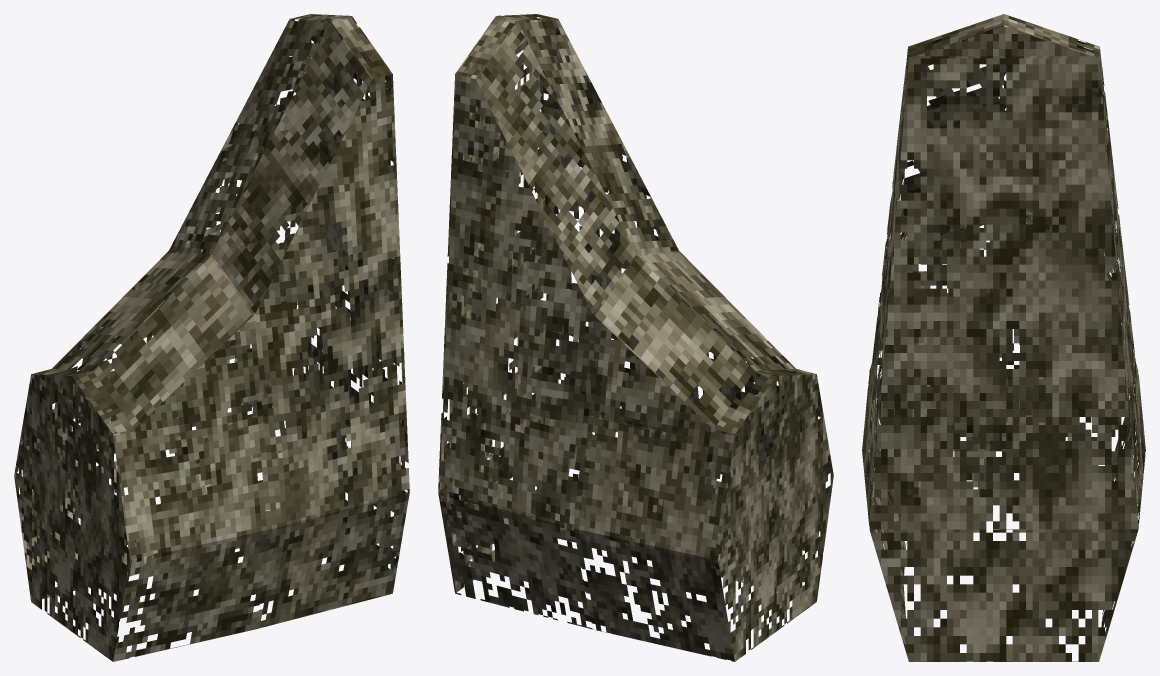
The model's file is bush_connector_ornamental_half_dead.glb.
The picture shows the model from 3 angles, left to right: view 1: azimuth 30°, elevation 25°; view 2: azimuth 150°, elevation 25°; view 3: azimuth 270°, elevation 25°; orthographic projection. The views are drawn at different scales.
Parts seen in each view (by area): view 1: bush_connector_ornamental_half_dead; view 2: bush_connector_ornamental_half_dead; view 3: bush_connector_ornamental_half_dead.
Boxes of the visible parts, x1,y1,x2,y2 form: bush_connector_ornamental_half_dead: (14, 14, 409, 661); bush_connector_ornamental_half_dead: (438, 14, 833, 661); bush_connector_ornamental_half_dead: (862, 14, 1145, 661).
Size of the model in its own units: 1 by 1.88 by 0.7592.
Materials: 1 (1 with a texture image).
